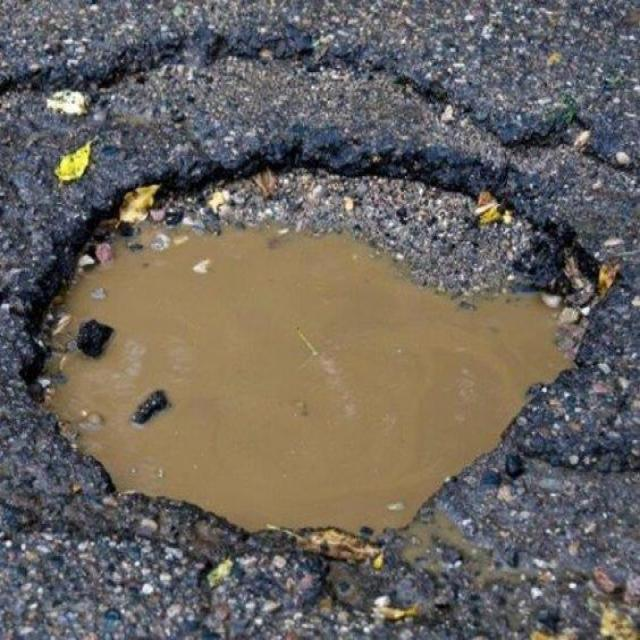lubang: (28, 149, 621, 568)
